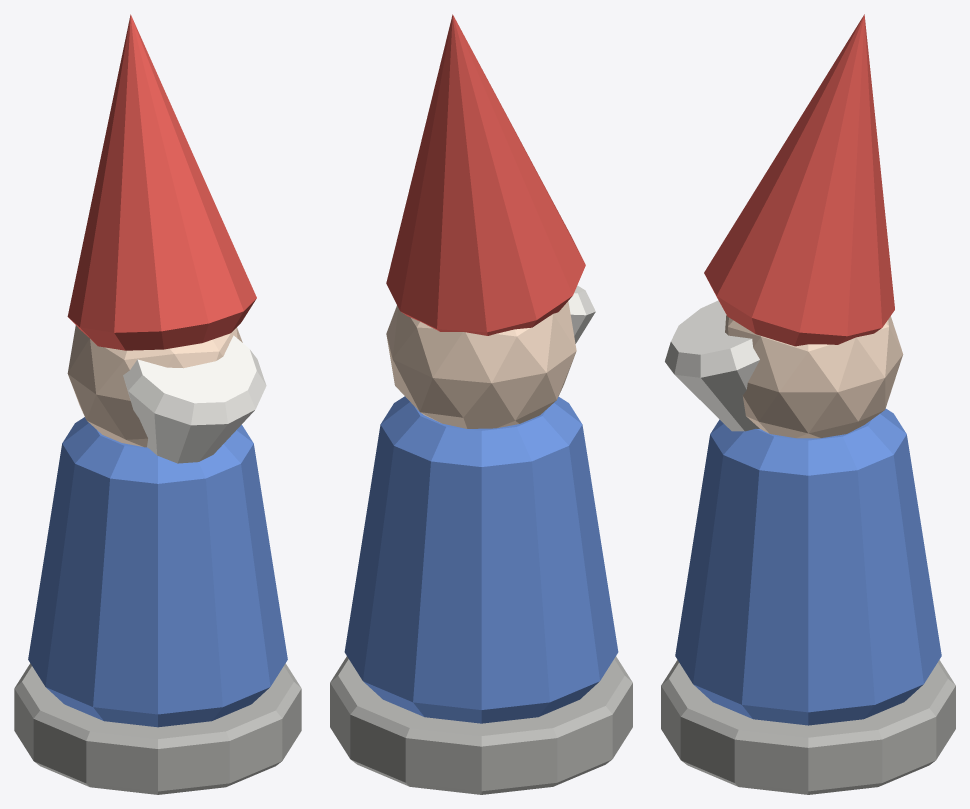
3 views of the same model, side by side, from view 1: azimuth 30°, elevation 25°; view 2: azimuth 150°, elevation 25°; view 3: azimuth 270°, elevation 25° (orthographic). The views are drawn at different scales.
Visible parts, largest first — view 1: Gnome; view 2: Gnome; view 3: Gnome.
Boxes of the visible parts, <box> form: Gnome: <box>14,14,301,794</box>; Gnome: <box>330,14,632,794</box>; Gnome: <box>661,14,955,794</box>.
Bounding box in the file's own units: 0.14 × 0.3783 × 0.14.
